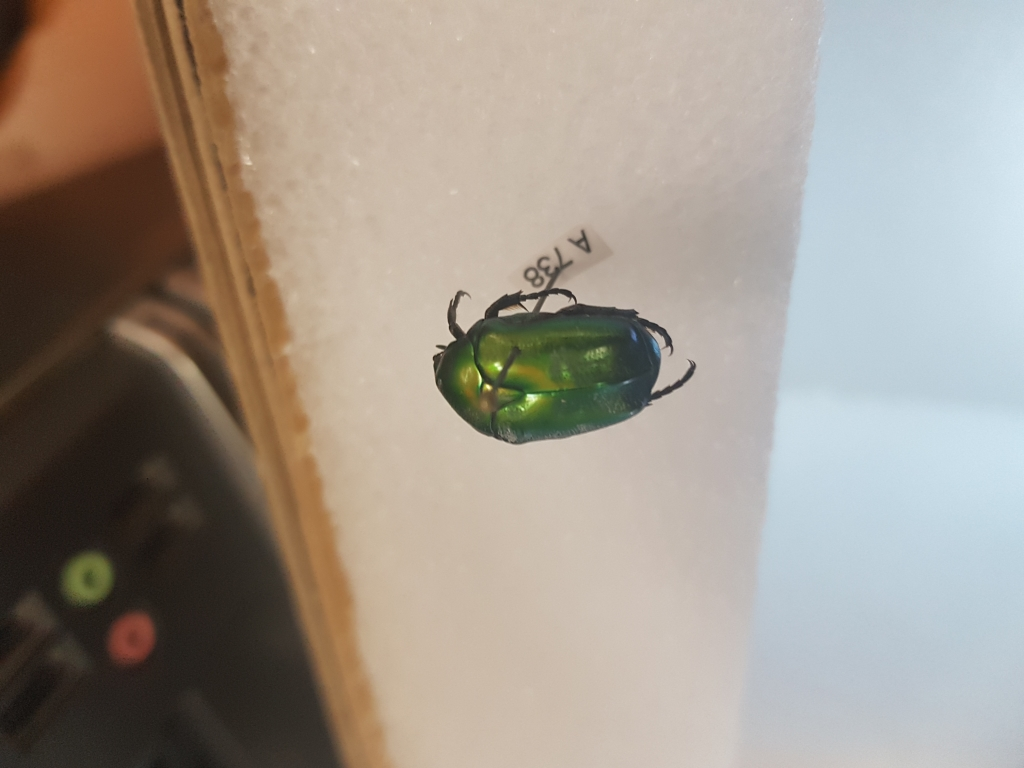Protaetia_cuprea_ignicollis: (428, 281, 704, 450)
